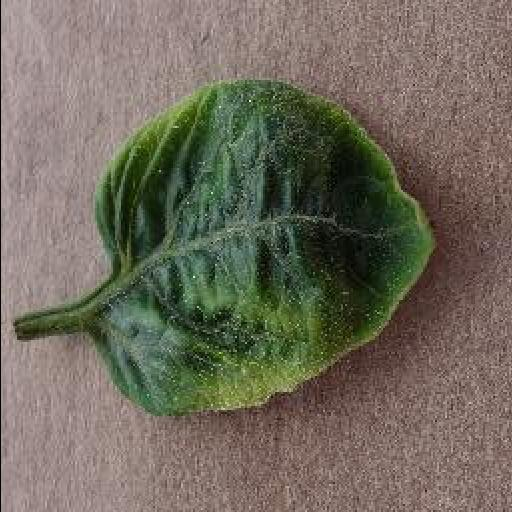disease_tomato: (93, 78, 439, 418)
